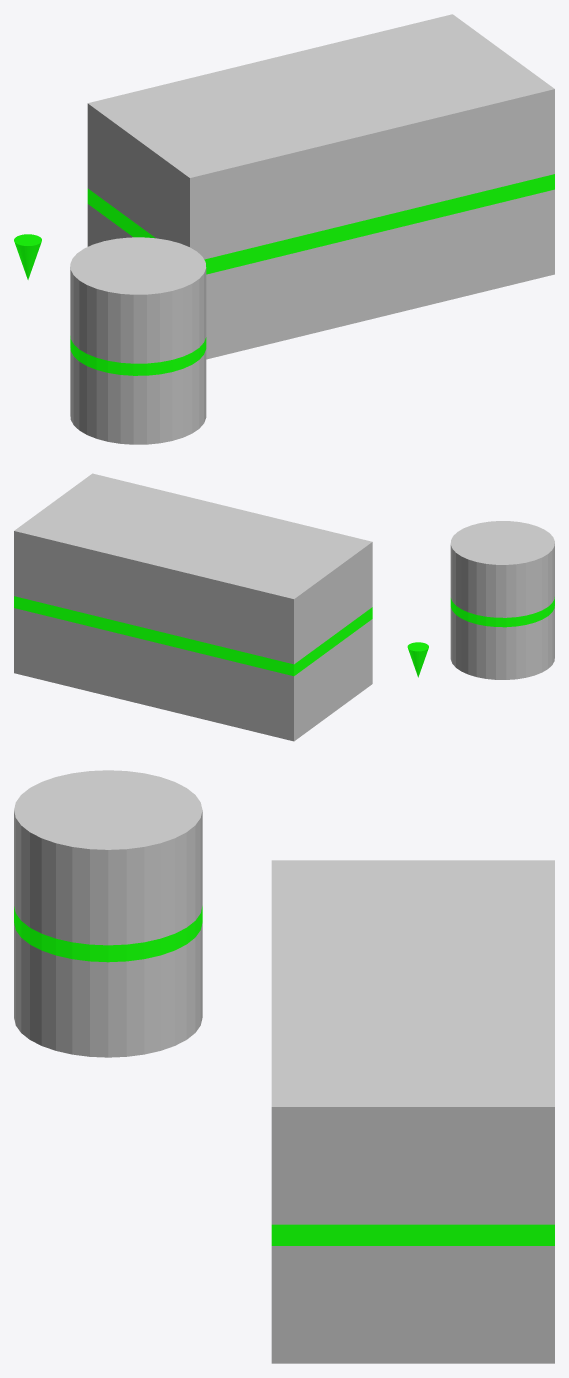
Rendered from CHek Poin Tutorial.fbx.
The picture shows the model from 3 angles, top to bottom: view 1: azimuth 30°, elevation 25°; view 2: azimuth 150°, elevation 25°; view 3: azimuth 270°, elevation 25°; orthographic projection. The views are drawn at different scales.
Parts seen in each view (by area): view 1: F Storage, F Chek Poin, F chek poin; view 2: F Storage, F Chek Poin, F chek poin; view 3: F Storage, F Chek Poin.
Part boxes in pixels (x1,y1,x2,y2): F Storage: (87,14,554,359); F Chek Poin: (70,237,206,444); F chek poin: (14,234,41,279); F Storage: (14,473,372,741); F Chek Poin: (450,521,554,679); F chek poin: (407,642,428,677); F Storage: (271,860,554,1363); F Chek Poin: (14,770,202,1057).
Size of the model in its own units: 481 by 159 by 304.
